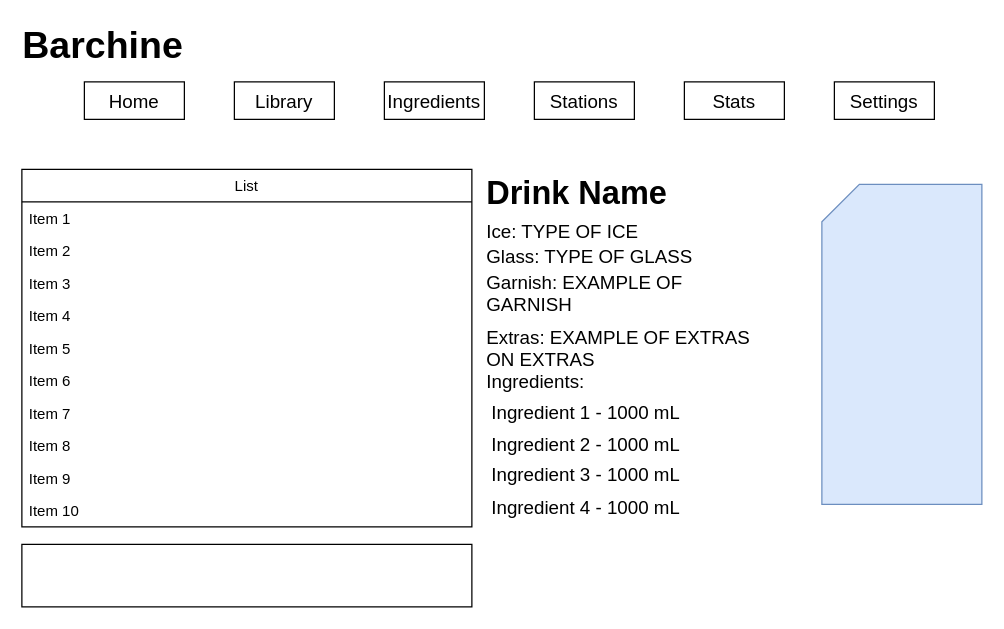
Some shapes in this 1004 by 629 pixel diagram are drawn without their labels. The shapes that lost their labels are listed below. From the top down, each one's centre as x and y in pixels, then its label:
the point at 901,343: IMAGE (128x256) (Base images will be 256x256)
the point at 246,575: Order
